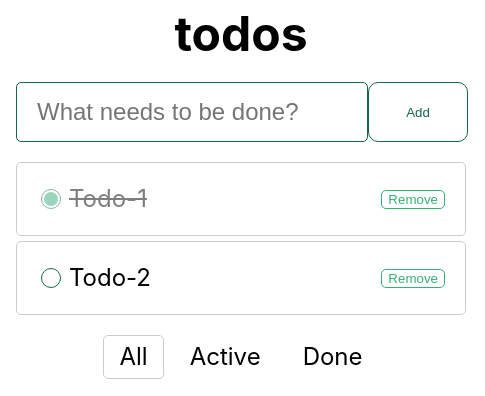
Scenario: Todo list › Remove todos from list one by one
Click the button "Remove" in the row of "Todo-1".
click(413, 199)  # box [381,190,445,209]
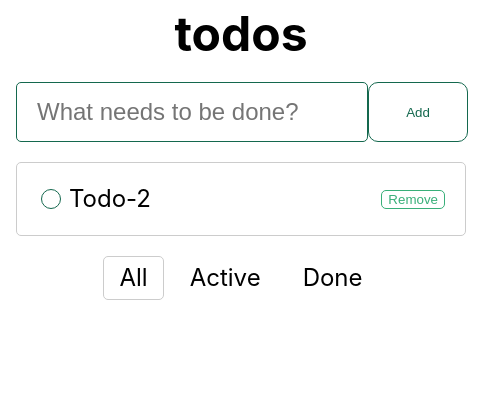
expect the text "Todo-2" is shown: met, box [37,183,151,215]
expect the number of checkboxes is 1: met, box [41,189,61,209]
expect the text "Todo-1" is gone: met
Click the button "Remove".
click(413, 199)  # box [381,190,445,209]
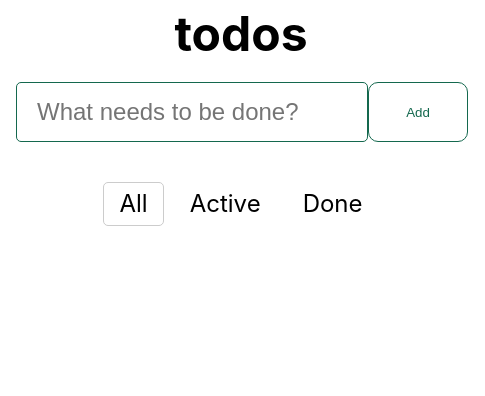
expect no checkboxes are shown: met
expect the text "Todo-2" is gone: met
